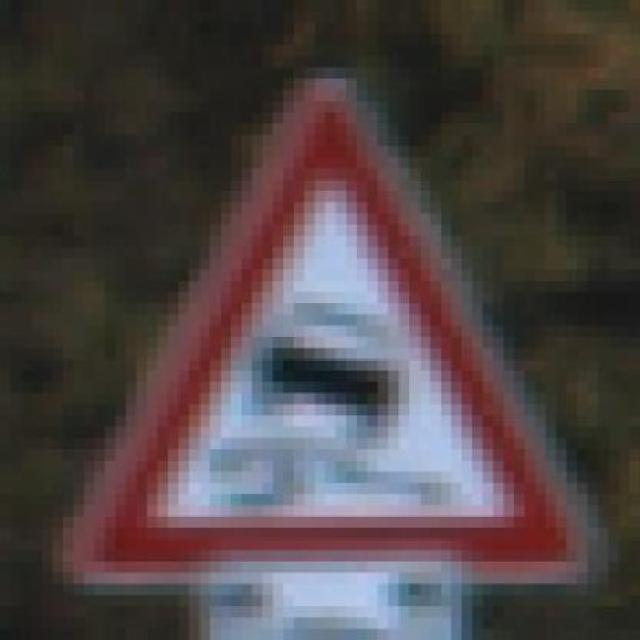Slippery Road Ahead: (60, 63, 606, 591)
